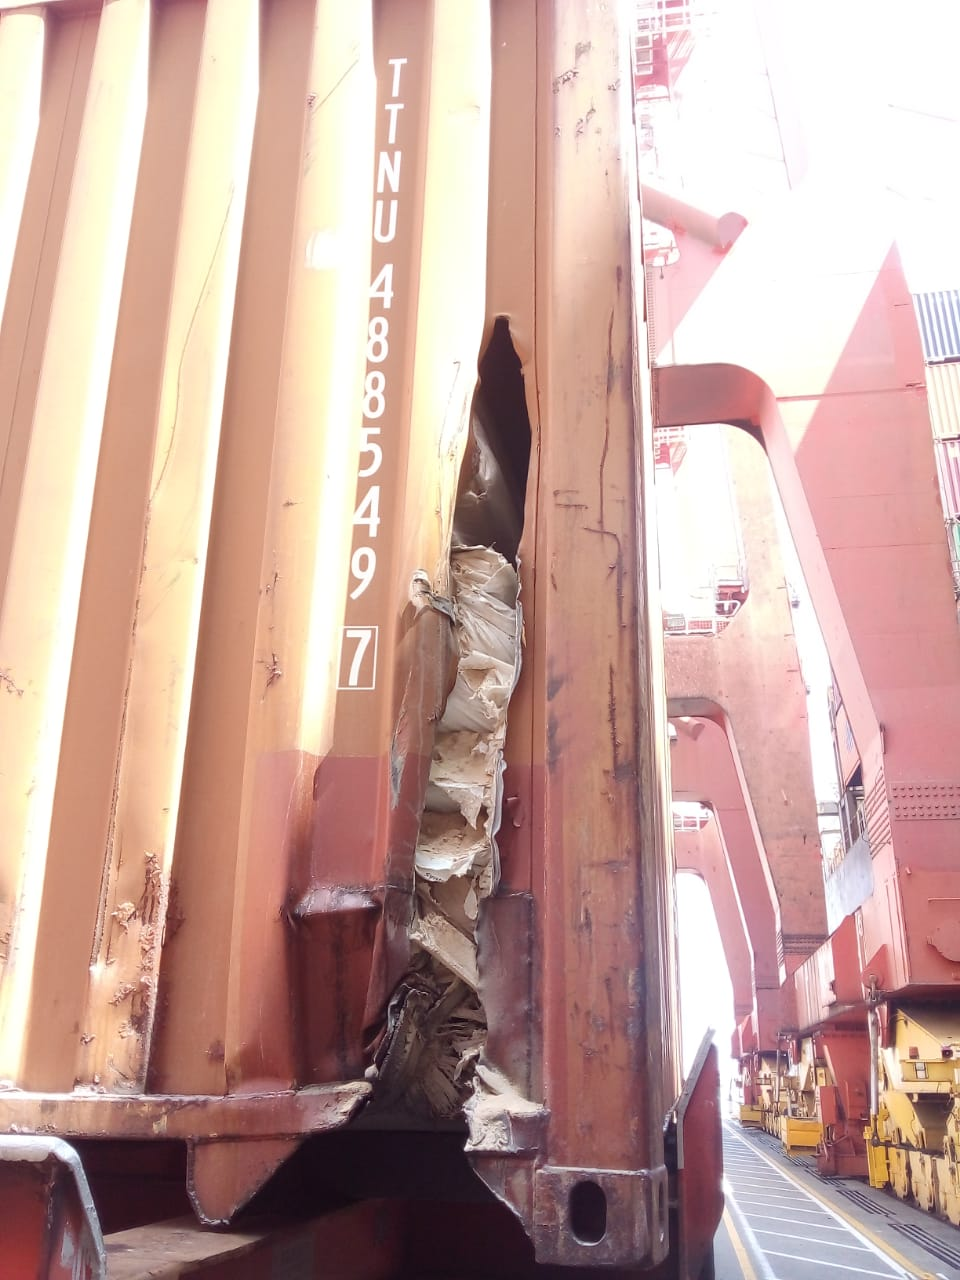severe: (301, 277, 578, 1118)
